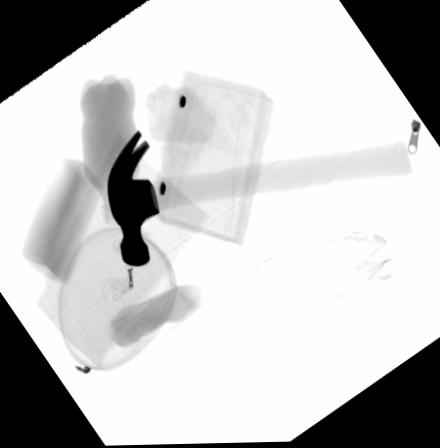Hammer: (106, 129, 413, 268)
